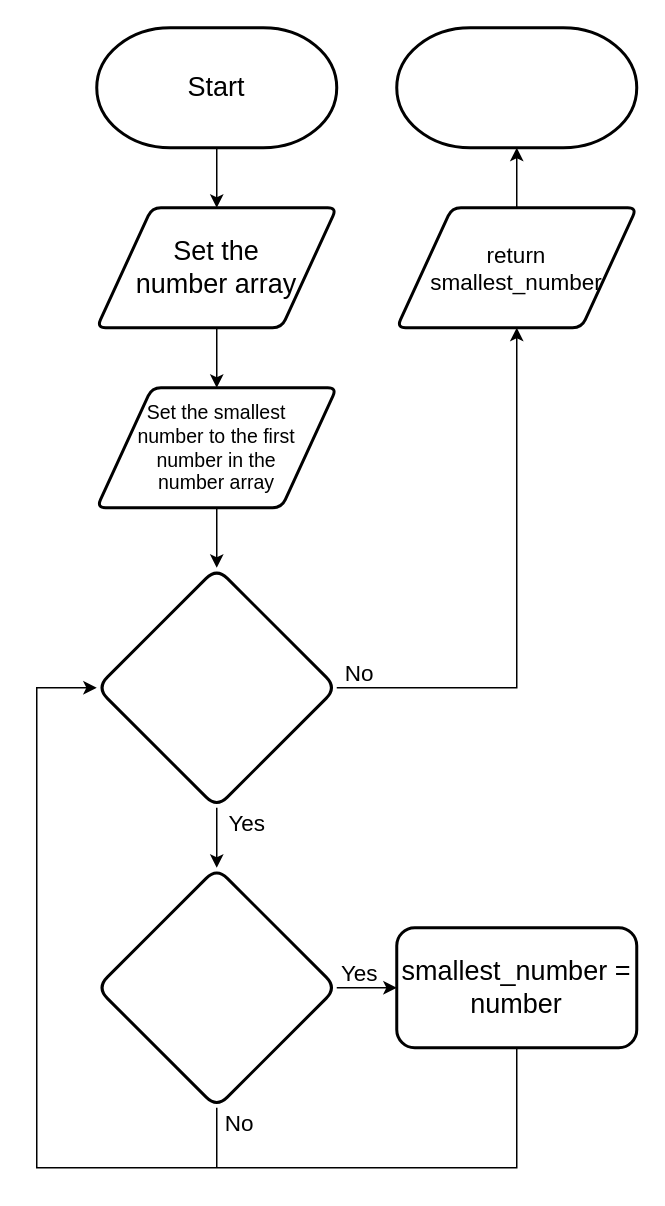
The diagram is 665 pixels wide and 1206 high, and some of its shapes have lost their labels. The shapes that lost their labels are listed below. From the top down, each one's centre as x and y in pixels, then its label:
(516,87): Stop
(216,687): for number in number_array
(216,987): if number < smallest_number
